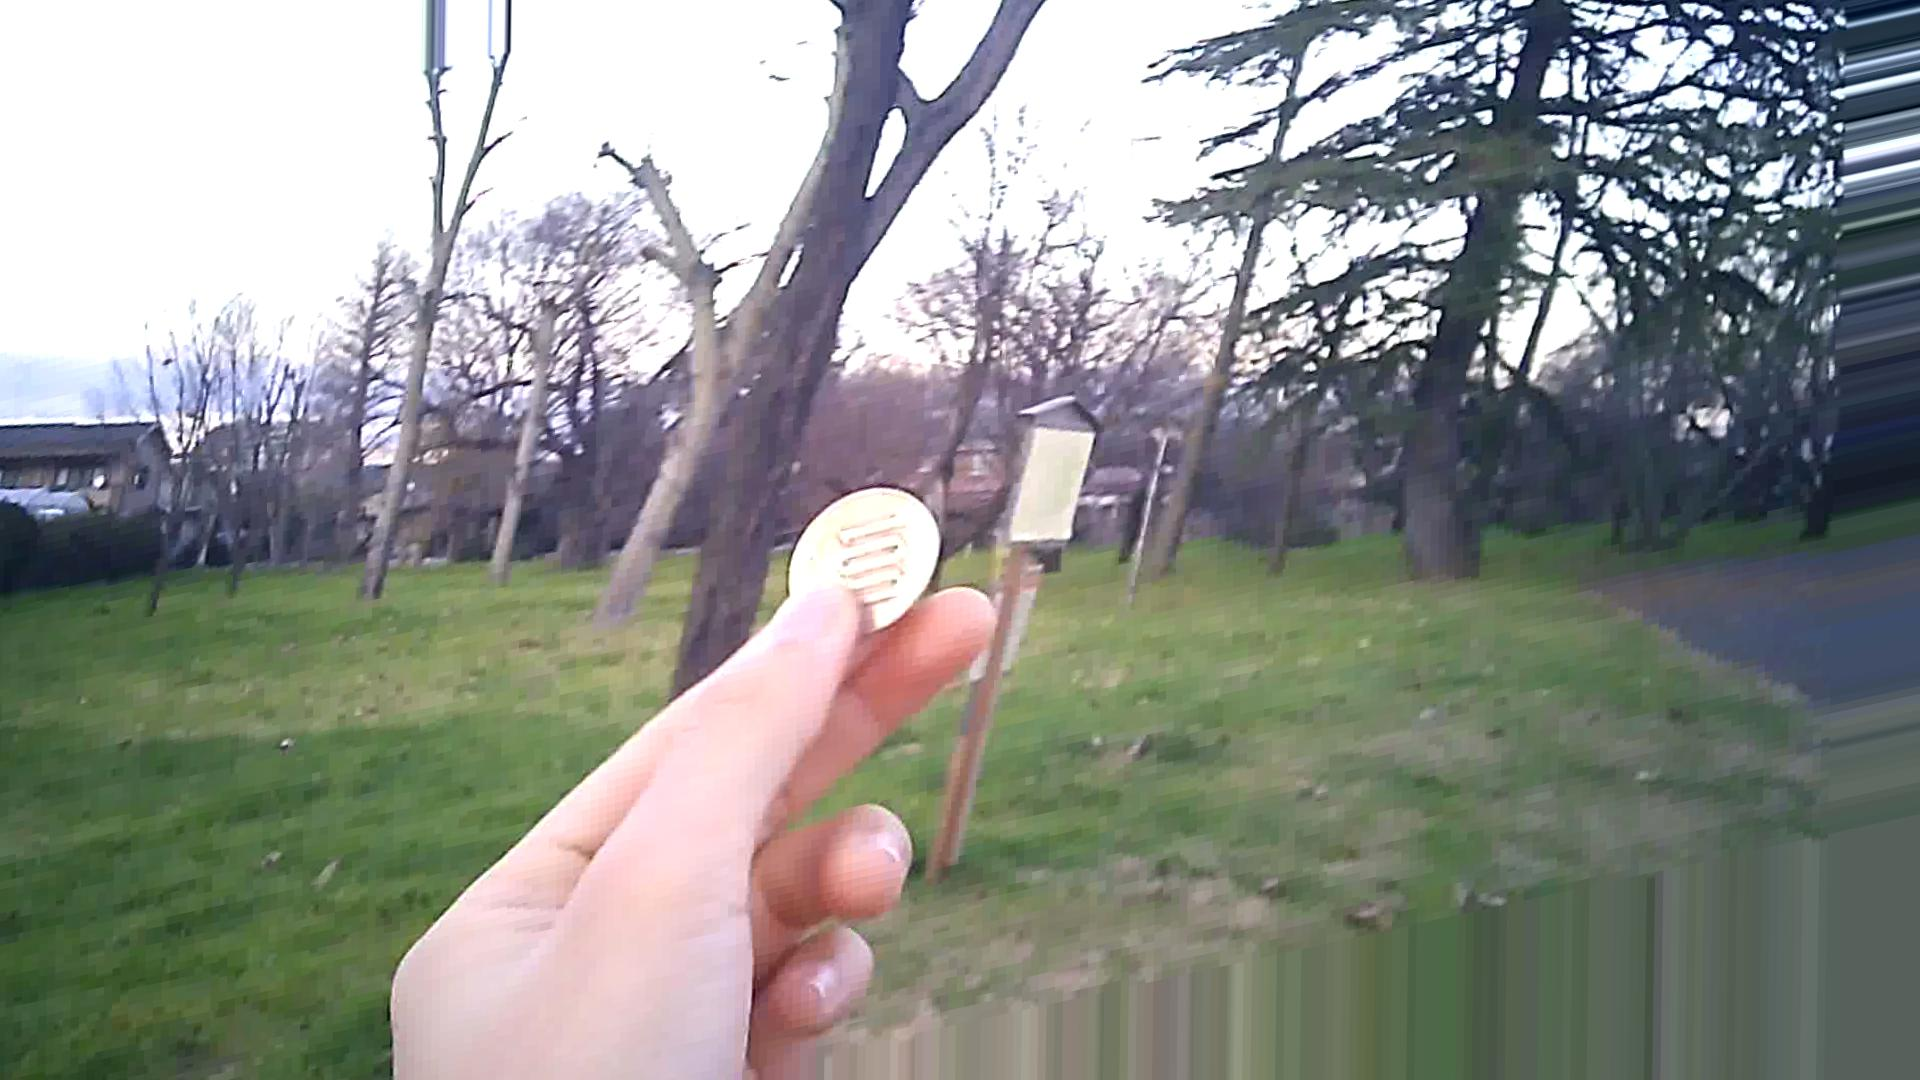100 Yen: (775, 484, 930, 626)
